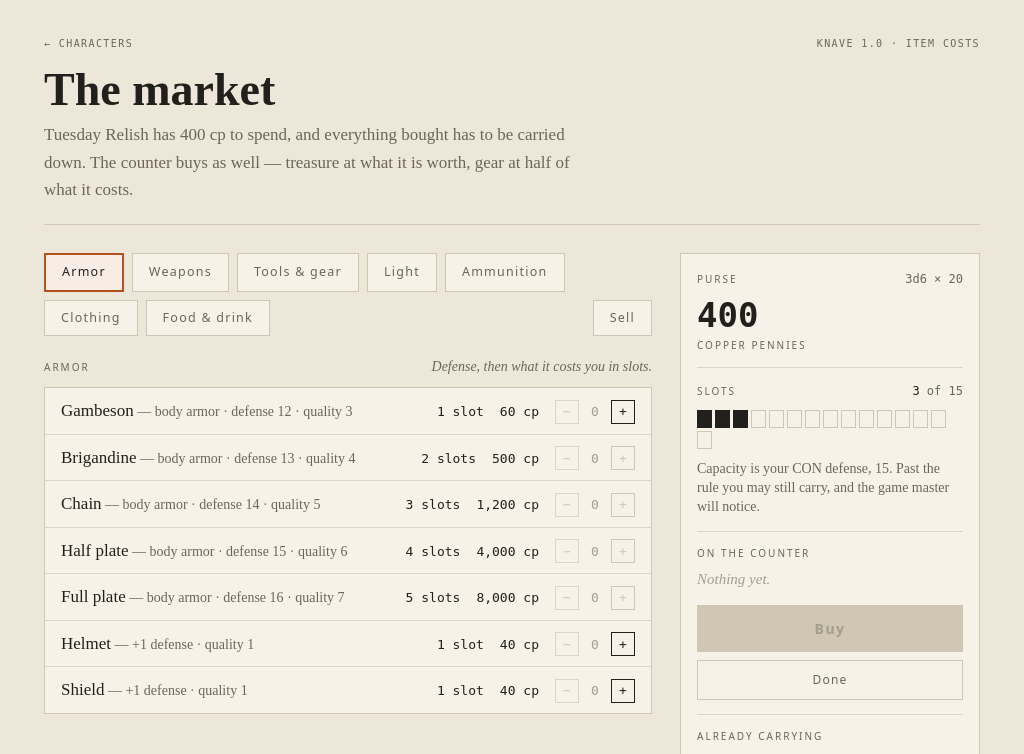
Test: the shop › walks the tables and prices a torch off the Light one
Click the button "Light": click(402, 272) [367,253,437,292]
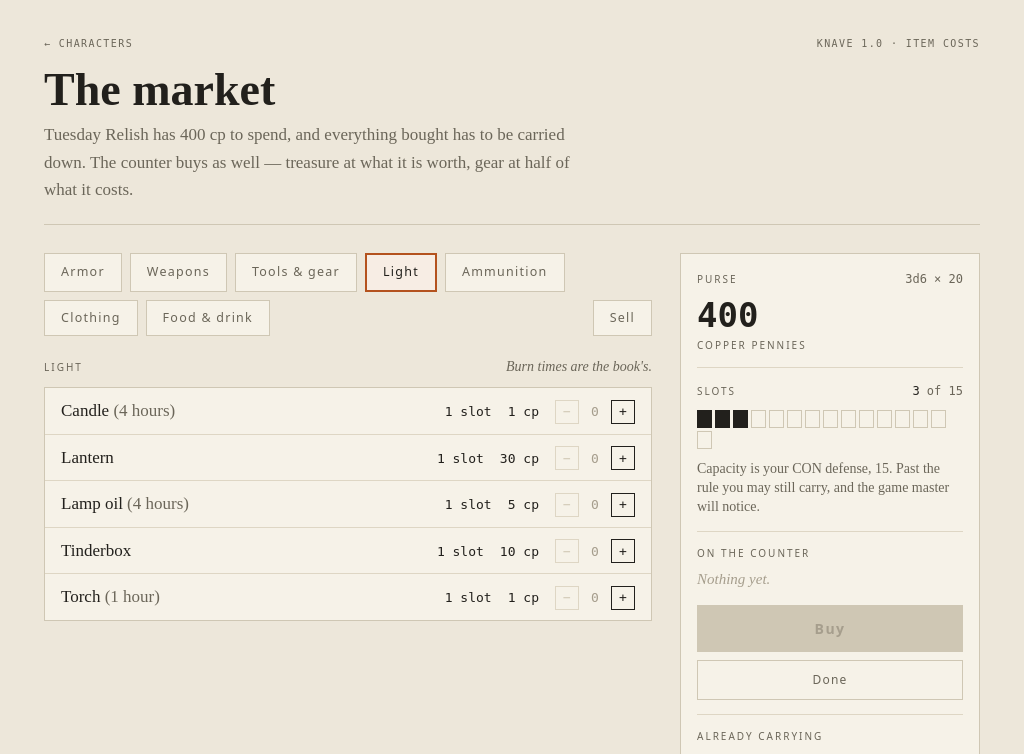
expect the text "Torch" is shown: met, box [61,587,100,606]
Click the button "+" in the row of "1 hour": click(623, 598) [611,586,635,610]
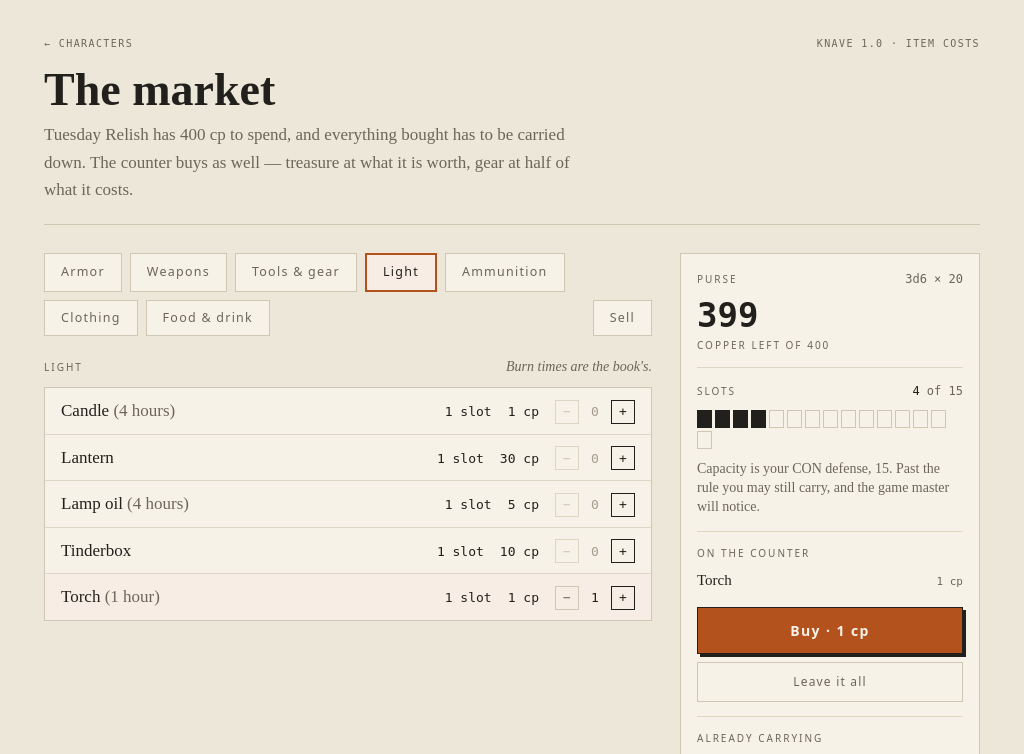
expect the text "399" is shown: met, box [697,295,758,335]
